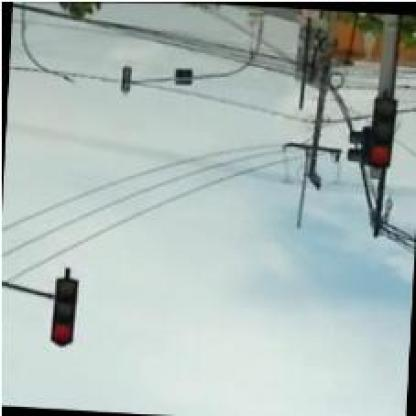red: (366, 94, 396, 166), (50, 277, 75, 346)
